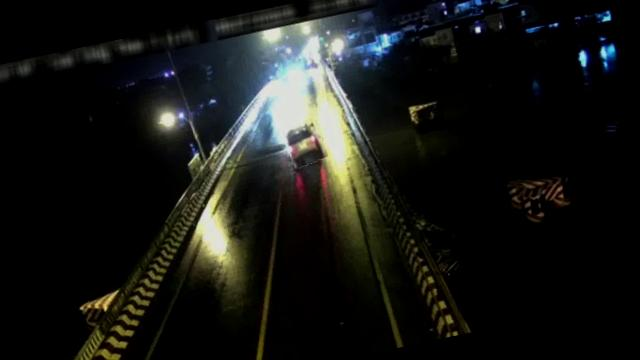Car: (282, 116, 328, 168)
